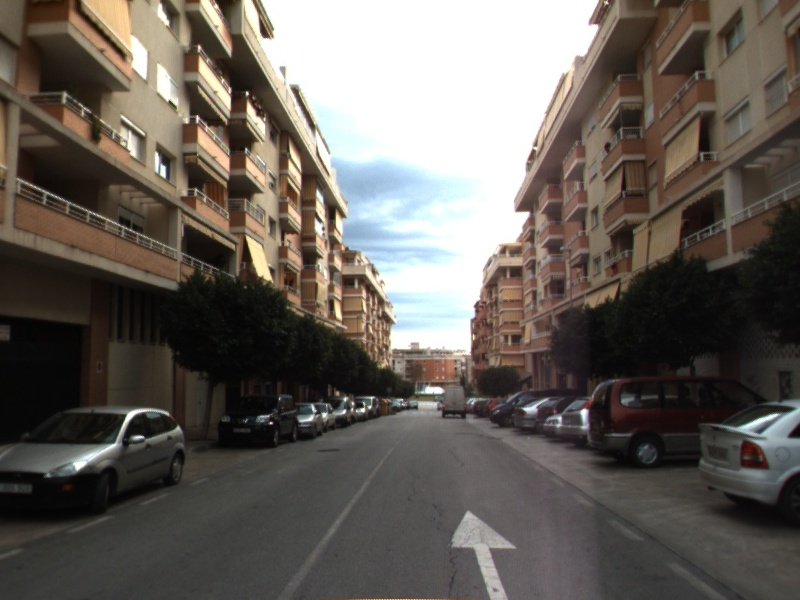STRAIGHT: (444, 507, 520, 600)
